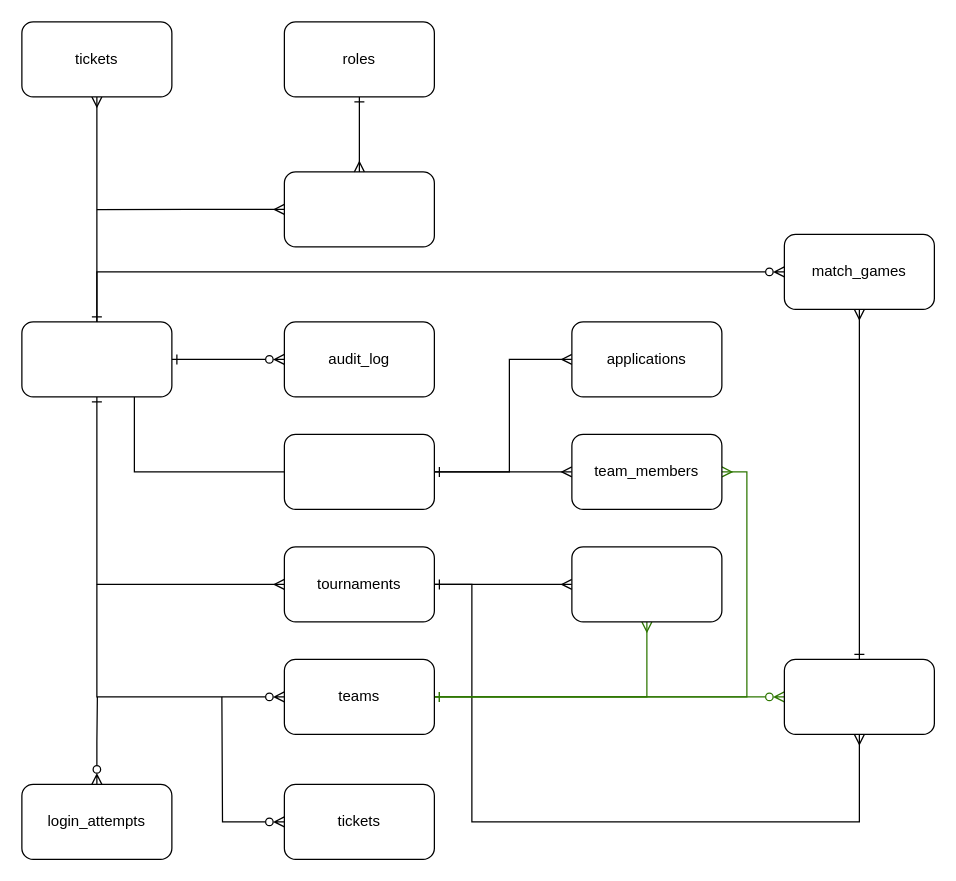
The diagram is 956 pixels wide and 881 high, and some of its shapes have lost their labels. The shapes that lost their labels are listed below. From the top down, each one's box as (x1, y1, x2, y2) in pixels, then its label:
(283, 171, 434, 247): user_roles
(21, 321, 172, 397): users
(283, 433, 434, 509): players
(571, 546, 722, 622): tournament_ participants
(783, 658, 934, 734): matches
